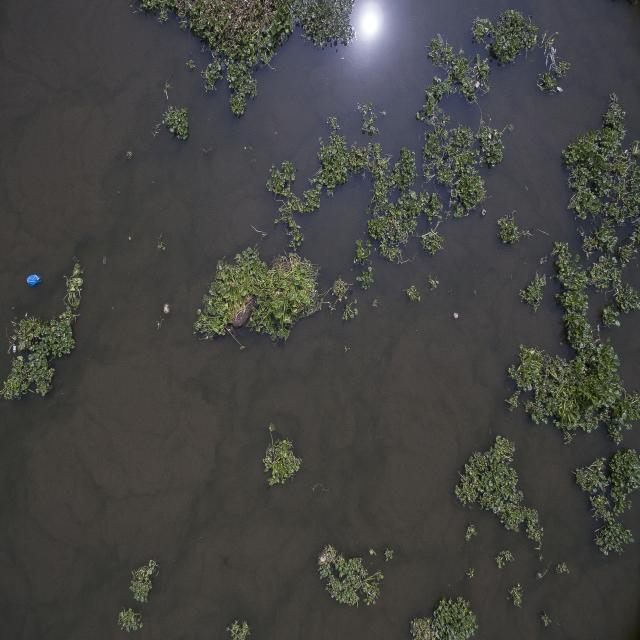plastic: (24, 272, 49, 290)
